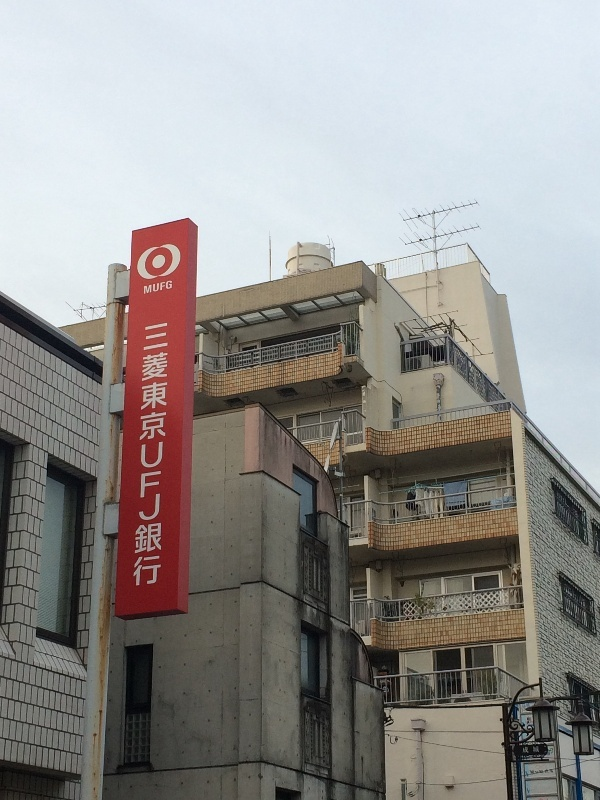text: (145, 320, 160, 589), (161, 320, 171, 589), (145, 280, 160, 296), (161, 280, 173, 296)
